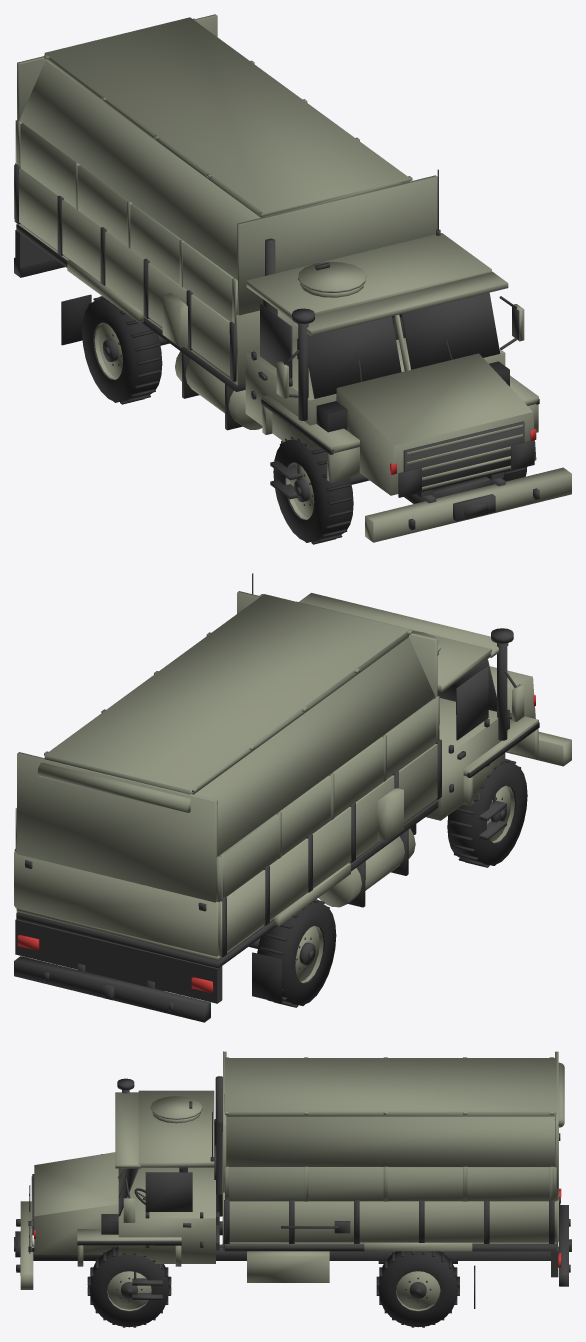
File: truck.glb
3 views of the same model, one above another, from view 1: azimuth 30°, elevation 25°; view 2: azimuth 150°, elevation 25°; view 3: azimuth 270°, elevation 25° (orthographic). The views are drawn at different scales.
Visible parts, largest first — view 1: body, wheel_rr, wheel_fr; view 2: body, wheel_rr, wheel_fr; view 3: body, wheel_rl, wheel_fl.
Boxes of the visible parts, box(x1,y1,x2,y2) form: body: box(14, 14, 571, 542); wheel_rr: box(82, 296, 162, 404); wheel_fr: box(273, 436, 353, 544); body: box(14, 573, 571, 1022); wheel_rr: box(257, 899, 336, 1007); wheel_fr: box(447, 759, 527, 867); body: box(14, 1051, 571, 1308); wheel_rl: box(376, 1251, 459, 1327); wheel_fl: box(87, 1247, 171, 1327).
Size of the model in its own units: 2.9 by 3.27 by 7.73.
